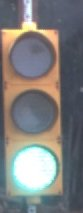Green: (1, 24, 73, 201)
